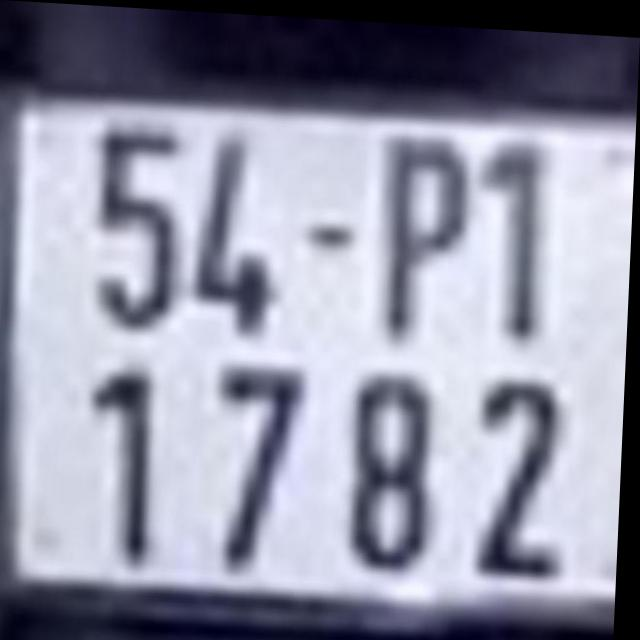1: (475, 113, 555, 335), (96, 359, 171, 562)
2: (467, 356, 570, 573)
4: (212, 345, 309, 569), (189, 113, 284, 336)
5: (86, 119, 188, 336)
8: (346, 358, 442, 578)
P: (371, 114, 481, 345)
